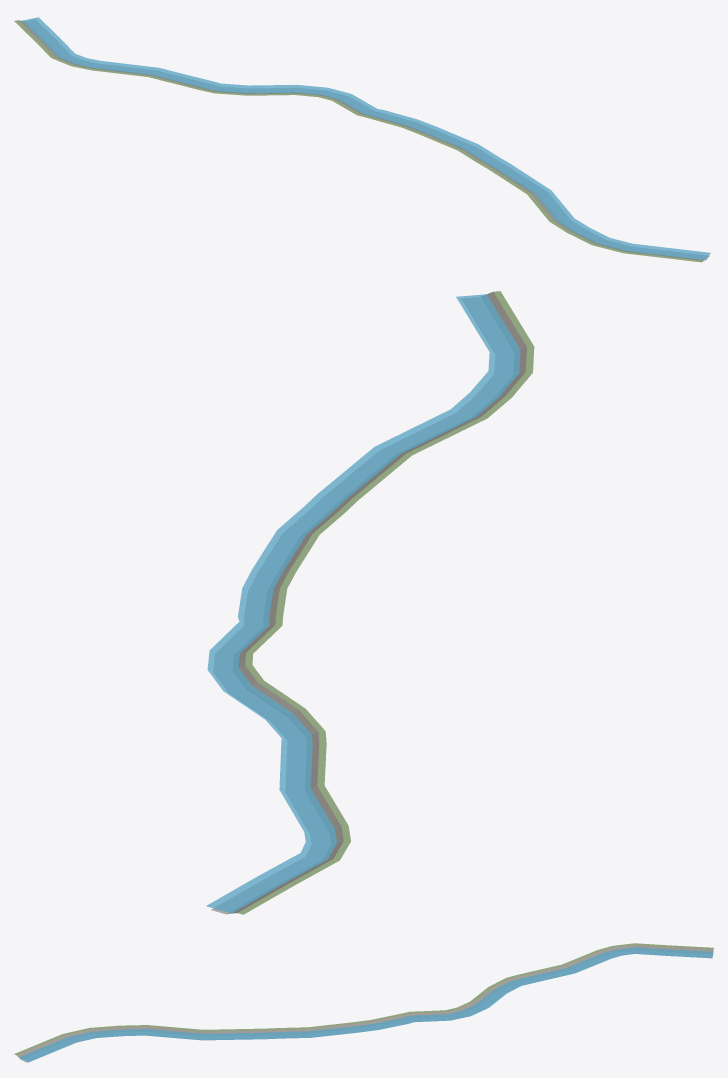
Rendered from corridor-03.glb.
The picture shows the model from 3 angles, top to bottom: view 1: azimuth 30°, elevation 25°; view 2: azimuth 150°, elevation 25°; view 3: azimuth 270°, elevation 25°; orthographic projection. The views are drawn at different scales.
Parts seen in each view (by area): view 1: water_water, concreteDark_terrain, grass_terrain, rock_terrain; view 2: water_water, concreteDark_terrain, rock_terrain, grass_terrain; view 3: water_water, rock_terrain, concreteDark_terrain, grass_terrain.
Part boxes in pixels (x1=…): water_water: x1=22, y1=17, x2=710, y2=260; concreteDark_terrain: x1=26, y1=20, x2=709, y2=259; grass_terrain: x1=14, y1=20, x2=703, y2=262; rock_terrain: x1=18, y1=20, x2=705, y2=260; water_water: x1=206, y1=294, x2=520, y2=913; concreteDark_terrain: x1=211, y1=298, x2=513, y2=914; rock_terrain: x1=227, y1=292, x2=526, y2=913; grass_terrain: x1=237, y1=291, x2=534, y2=914; water_water: x1=19, y1=947, x2=713, y2=1062; rock_terrain: x1=16, y1=945, x2=713, y2=1058; concreteDark_terrain: x1=20, y1=950, x2=713, y2=1062; grass_terrain: x1=14, y1=943, x2=713, y2=1055.
Bounding box in the file's own units: 2345 × 35.18 × 5697.
4 materials, 4 textured.
